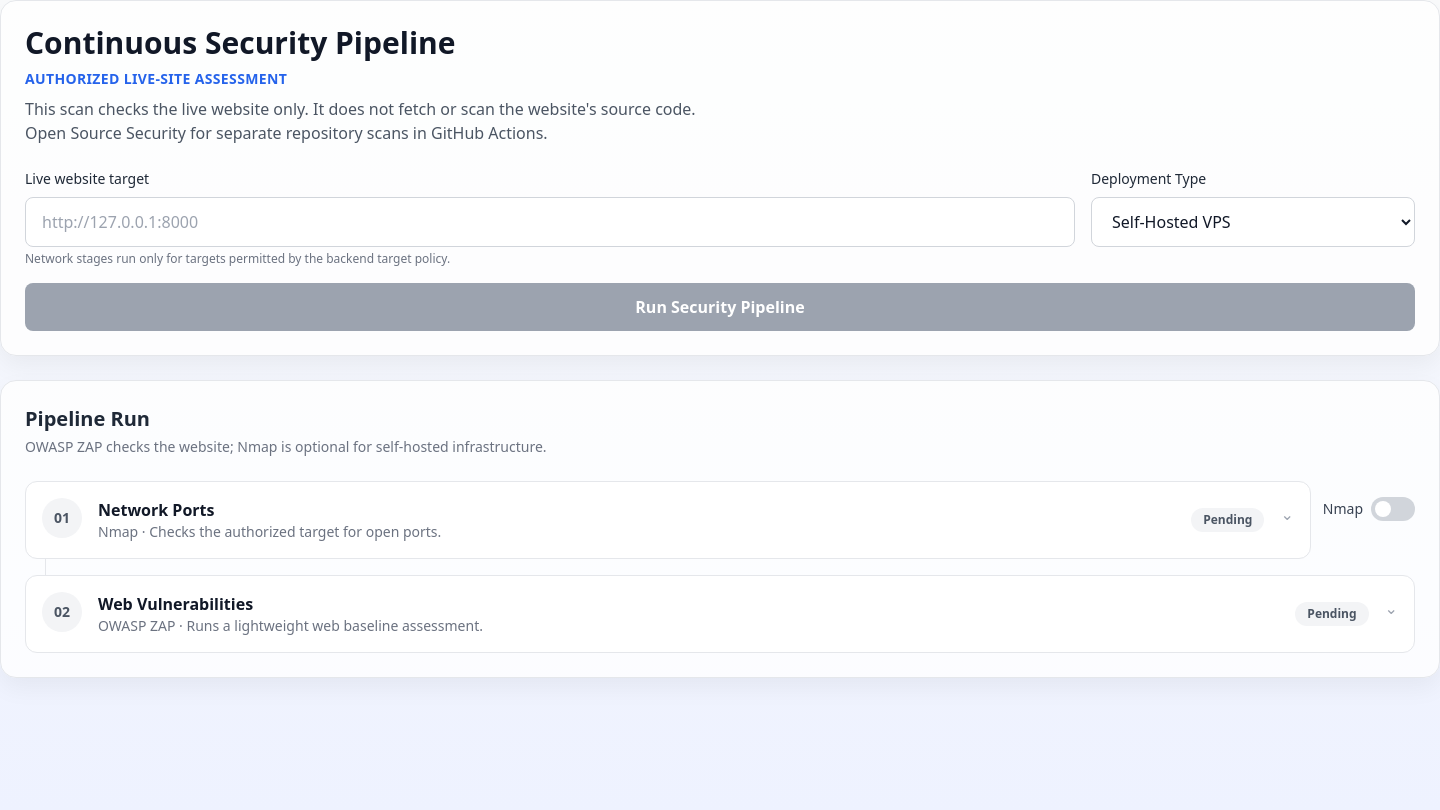
Test: shows only live-site stages and marks managed Nmap idle
Check: the switch named "Enable Nmap" is not checked, box [1323, 497, 1415, 521]
Select "Managed Platform (Vercel / Heroku)" in the dropdown labelled "Deployment Type": x=1253, y=222 [1091, 197, 1415, 247]
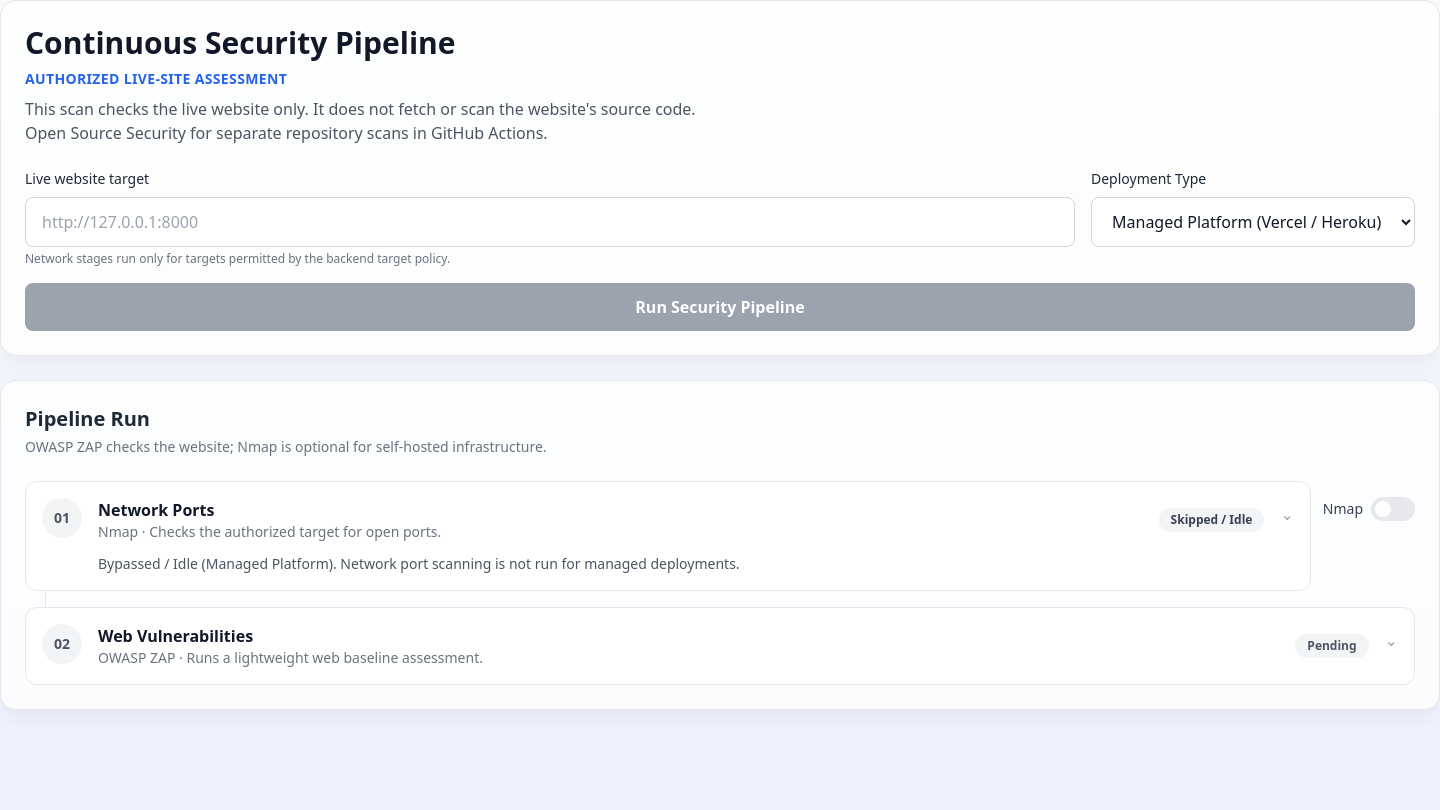
Check: the headings read "Network Ports", "Web Vulnerabilities", in this order, box [98, 499, 214, 521]; [98, 625, 253, 647]
Check: the text "Skipped / Idle" is shown, box [1159, 508, 1264, 532]
